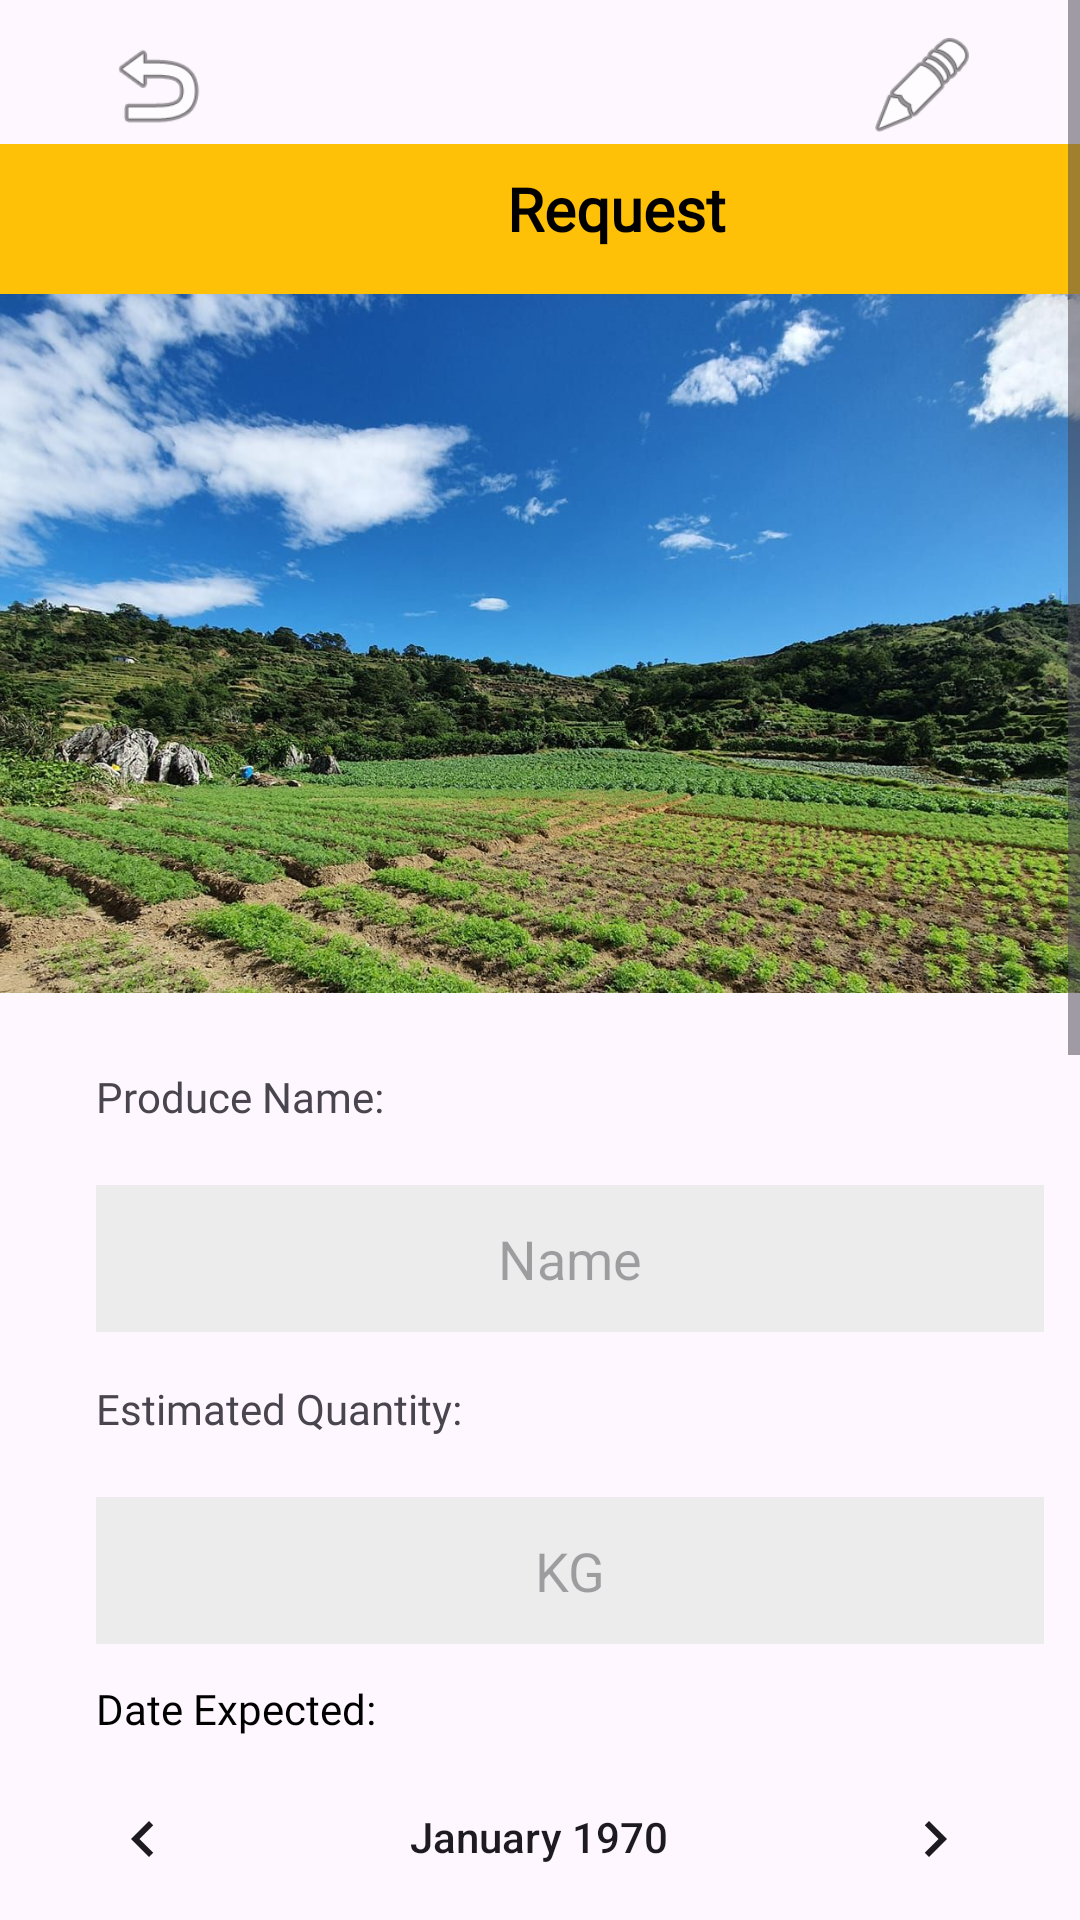

Screen size 1080×1920. Icon name, then its center in pixels as [x,y]:
edit: [922,85]
revert: [159,86]
